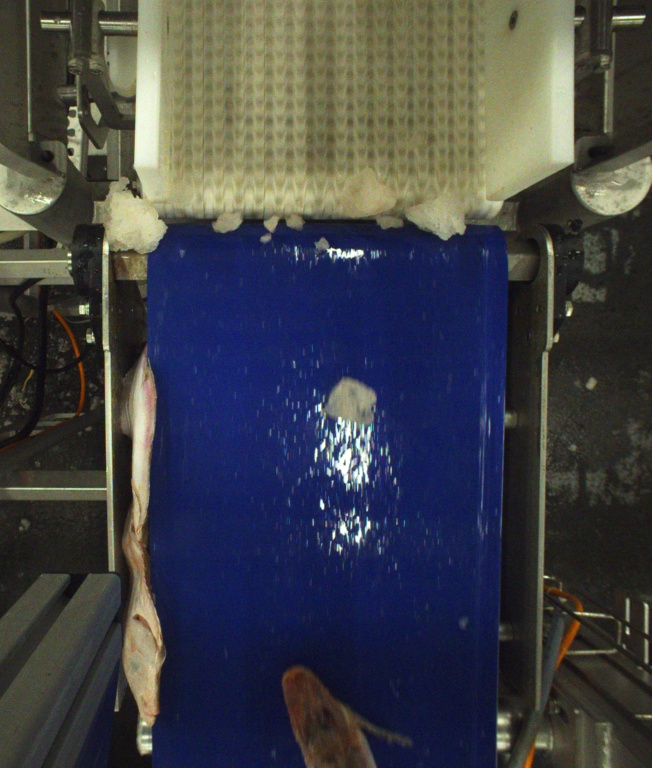GUU: (283, 665, 408, 768)
